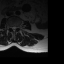CCS_normal: (13, 24, 14, 33)
LFS_normal: (17, 24, 19, 30)
LLS_normal: (15, 24, 17, 30)
RFS_normal: (9, 24, 11, 30)
RLS_normal: (11, 24, 13, 30)
